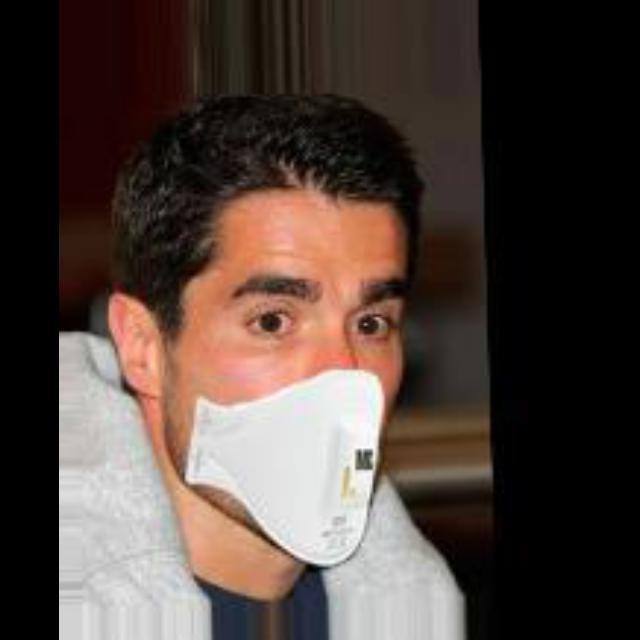suspicion: (125, 147, 445, 558)
